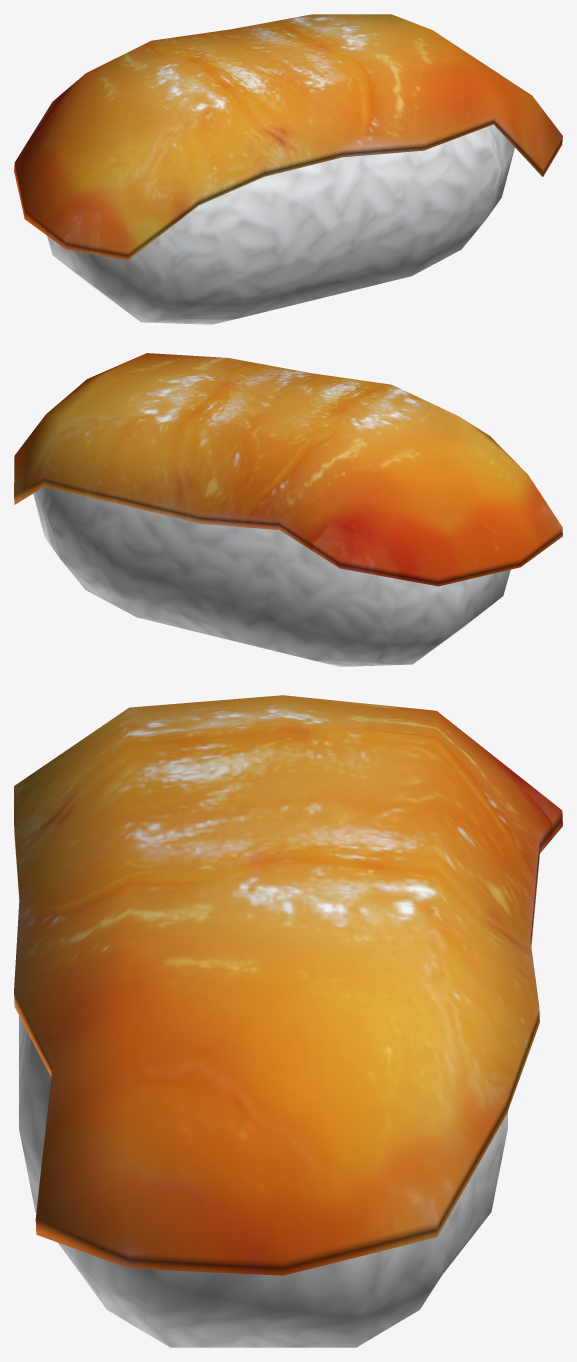
File: arkshell.fbx
3 views of the same model, one above another, from view 1: azimuth 30°, elevation 25°; view 2: azimuth 150°, elevation 25°; view 3: azimuth 270°, elevation 25° (orthographic). The views are drawn at different scales.
Visible parts, largest first — view 1: arkshell; view 2: arkshell; view 3: arkshell.
Part boxes in pixels (x1,y1,x2,y2): arkshell: (14, 14, 562, 324); arkshell: (14, 353, 562, 666); arkshell: (14, 695, 562, 1347).
Size of the model in its own units: 6.83 by 3.09 by 3.51.
